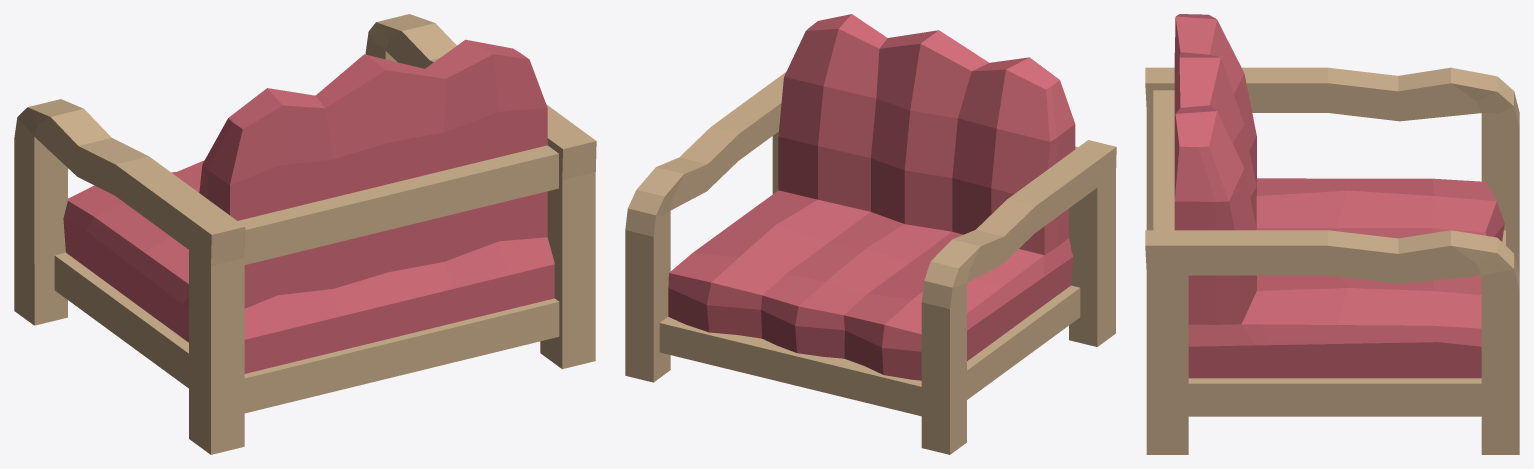
The model's file is chair.fbx.
The picture shows the model from 3 angles, left to right: view 1: azimuth 30°, elevation 25°; view 2: azimuth 150°, elevation 25°; view 3: azimuth 270°, elevation 25°; orthographic projection. The views are drawn at different scales.
Parts seen in each view (by area): view 1: Cube.011; view 2: Cube.011; view 3: Cube.011.
Boxes of the visible parts, left/top/right/bottom form: Cube.011: left=14, top=14, right=596, bottom=454; Cube.011: left=625, top=14, right=1116, bottom=454; Cube.011: left=1145, top=14, right=1519, bottom=454.
Bounding box in the file's own units: 148 × 120 × 132.
